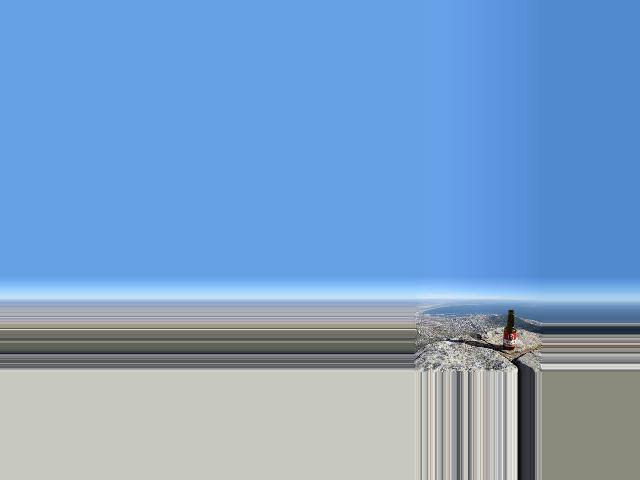beer: (502, 310, 516, 349)
